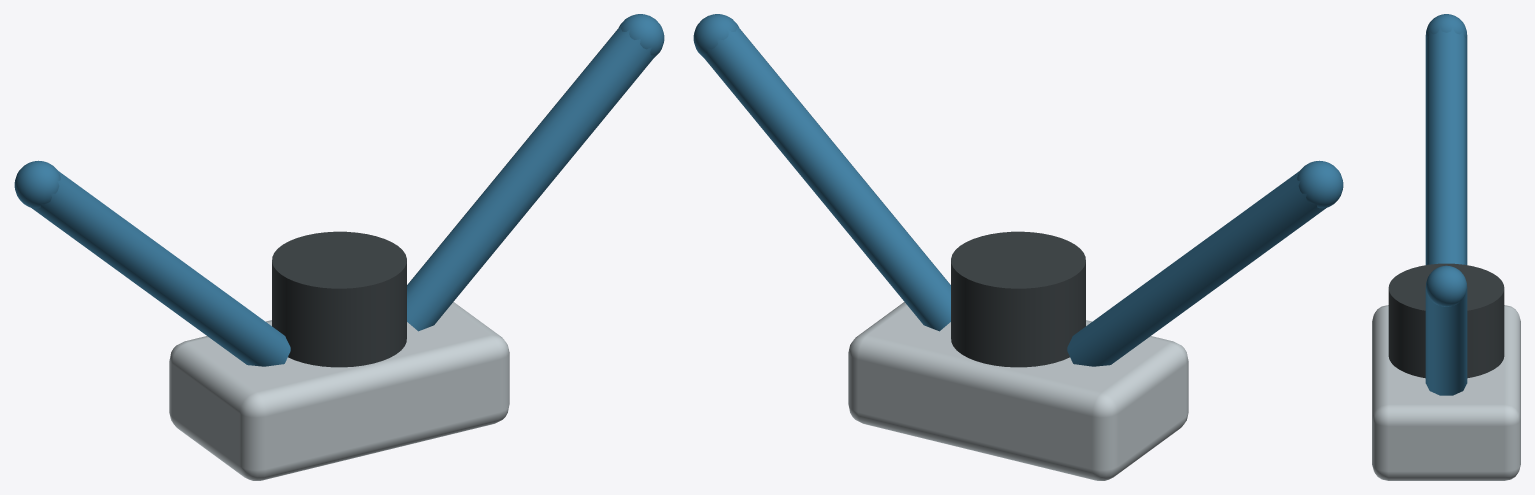
The model's file is recycling-centre-and-material-sorting-wire-tensioning--1e5f6005__31128.glb.
3 renders of one model, left to right at view 1: azimuth 30°, elevation 25°; view 2: azimuth 150°, elevation 25°; view 3: azimuth 270°, elevation 25°, orthographic. The views are drawn at different scales.
Visible parts, largest first — view 1: wire-tensioning-tool; view 2: wire-tensioning-tool; view 3: wire-tensioning-tool.
Boxes of the visible parts, left/top/right/bottom form: wire-tensioning-tool: left=14, top=14, right=664, bottom=480; wire-tensioning-tool: left=693, top=14, right=1343, bottom=480; wire-tensioning-tool: left=1372, top=14, right=1520, bottom=480.
Bounding box in the file's own units: 0.385 × 0.1925 × 0.09.
